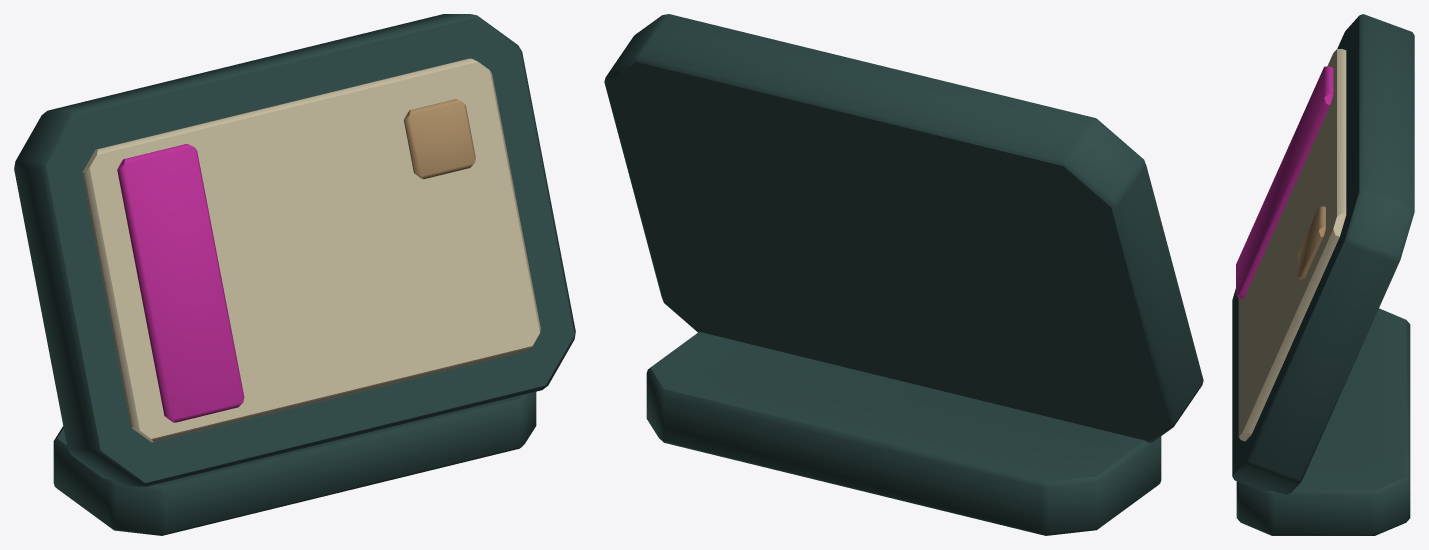
File: cons_foreman_memo.glb
3 views of the same model, side by side, from view 1: azimuth 30°, elevation 25°; view 2: azimuth 150°, elevation 25°; view 3: azimuth 270°, elevation 25° (orthographic). The views are drawn at different scales.
Parts seen in each view (by area): view 1: cons_foreman_memo_mesh; view 2: cons_foreman_memo_mesh; view 3: cons_foreman_memo_mesh.
Part boxes in pixels (x1,y1,x2,y2): cons_foreman_memo_mesh: [14, 14, 575, 535]; cons_foreman_memo_mesh: [604, 14, 1203, 535]; cons_foreman_memo_mesh: [1232, 14, 1414, 535].
Bounding box in the file's own units: 0.52 × 0.392 × 0.1893.
